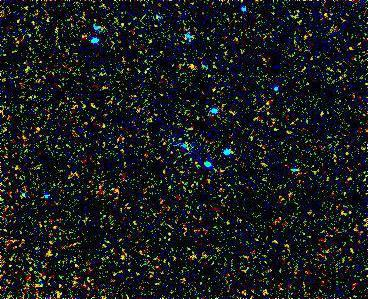star: (176, 47, 206, 77)
